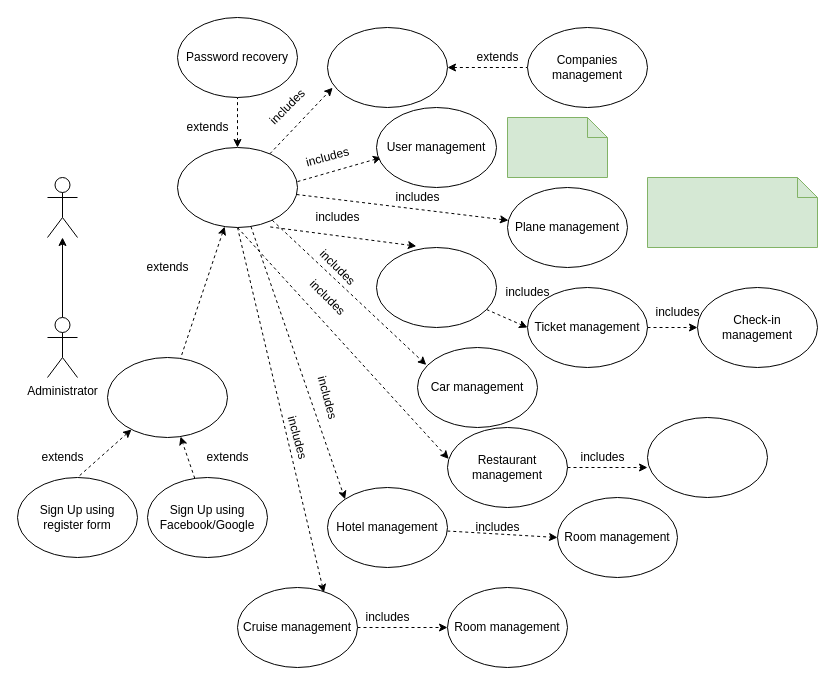
The diagram is 835 pixels wide and 685 high, and some of its shapes have lost their labels. The shapes that lost their labels are listed below. From the top down, each one's box as (x1, y1, x2, y2) in pixels, then its label:
(326, 26, 448, 108): Profile management
(506, 116, 608, 178): Manage roles and permissions
(46, 176, 78, 238): Provider
(176, 146, 298, 228): Login
(646, 176, 818, 248): All management that isn't user or profile just includes CRUD operations
(376, 246, 496, 328): Commercial routes management
(106, 356, 228, 438): Sign up
(646, 416, 768, 498): Table management
